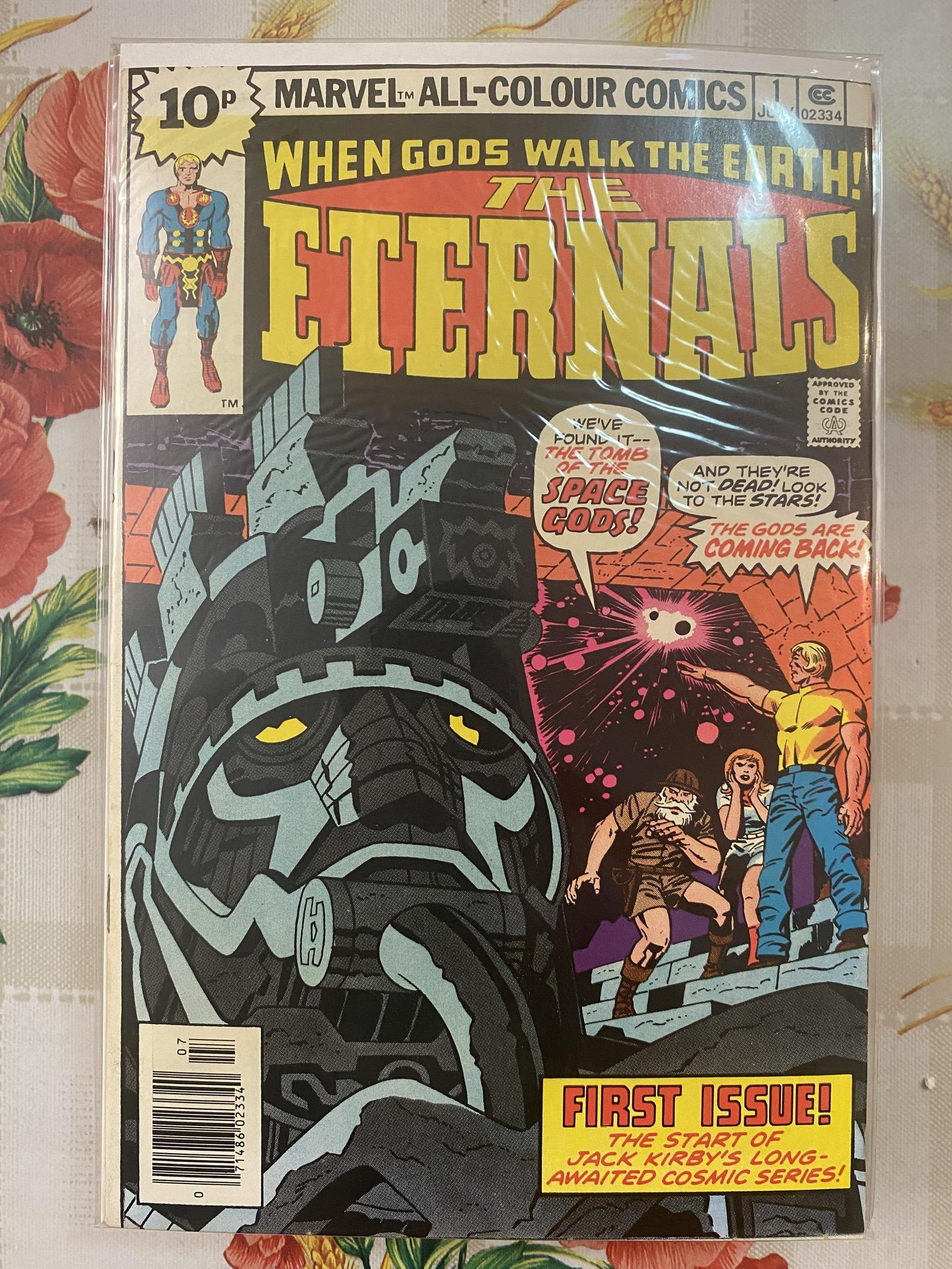comic: (104, 40, 878, 1240)
